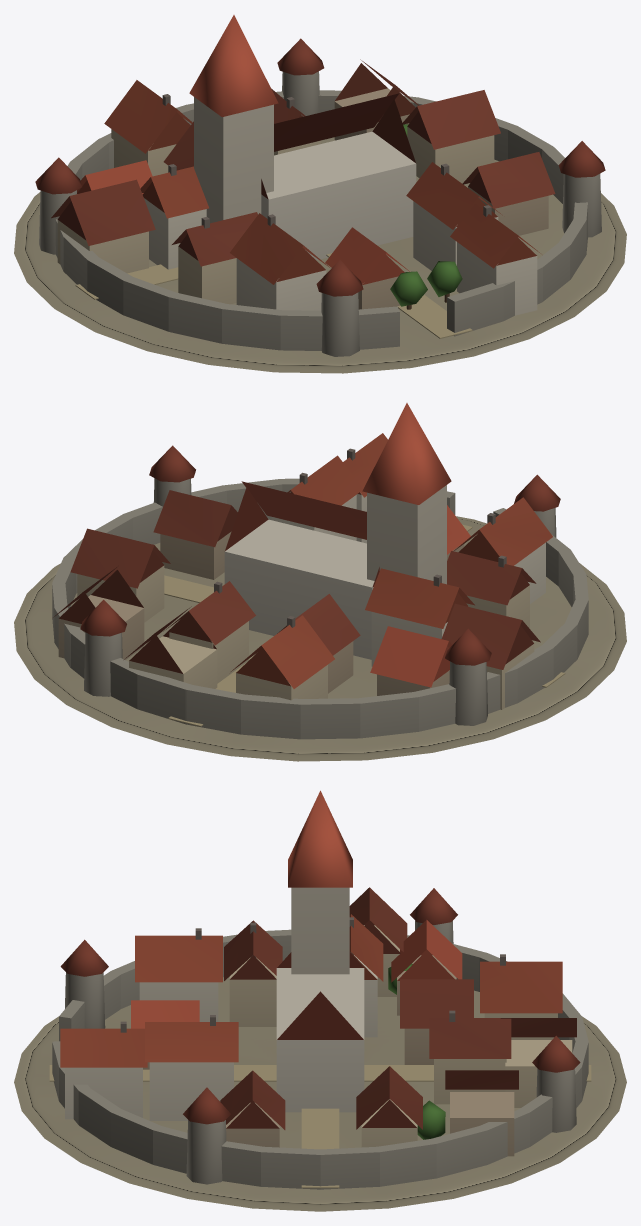
Rendered from settlement_1_3.glb.
3 views of the same model, one above another, from view 1: azimuth 30°, elevation 25°; view 2: azimuth 150°, elevation 25°; view 3: azimuth 270°, elevation 25° (orthographic).
Visible parts, largest first — view 1: part_0; view 2: part_0; view 3: part_0.
Boxes of the visible parts, x1,y1,x2,y2 form: part_0: [14, 15, 626, 373]; part_0: [14, 403, 626, 761]; part_0: [14, 790, 626, 1211].
Bounding box in the file's own units: 32.8 × 14.76 × 32.8.
